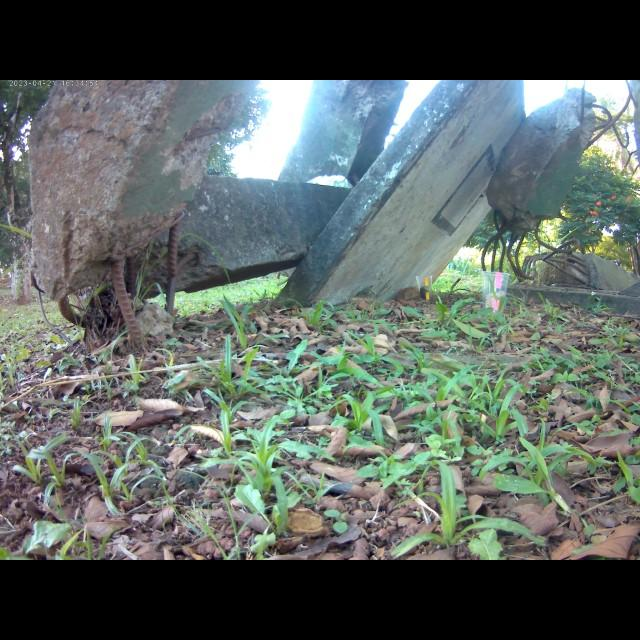detrito: (263, 81, 553, 307), (20, 80, 273, 311), (124, 171, 374, 301), (482, 86, 608, 241), (56, 218, 187, 366), (483, 244, 640, 321)
